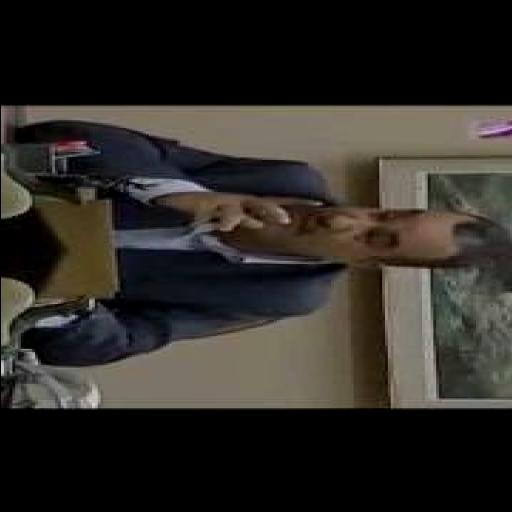slimane: (262, 208, 512, 272)
